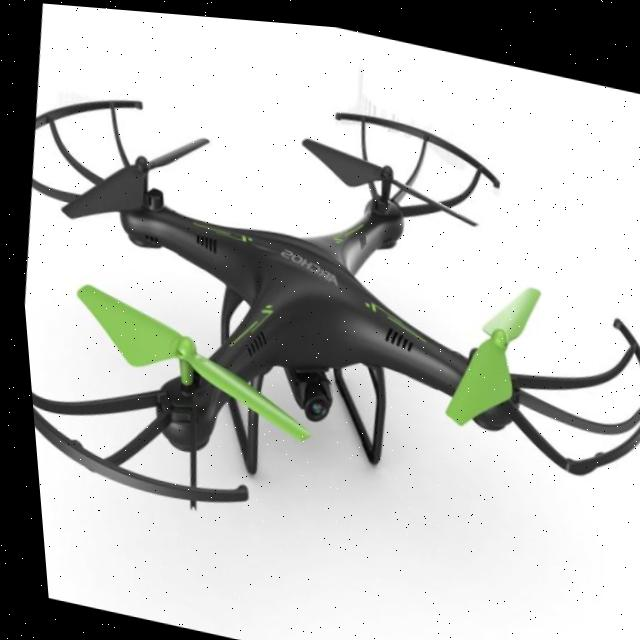drones: (0, 0, 640, 603)
